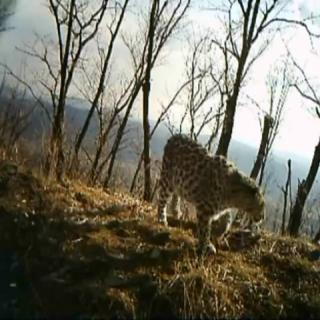Leopard: (162, 106, 292, 281)
